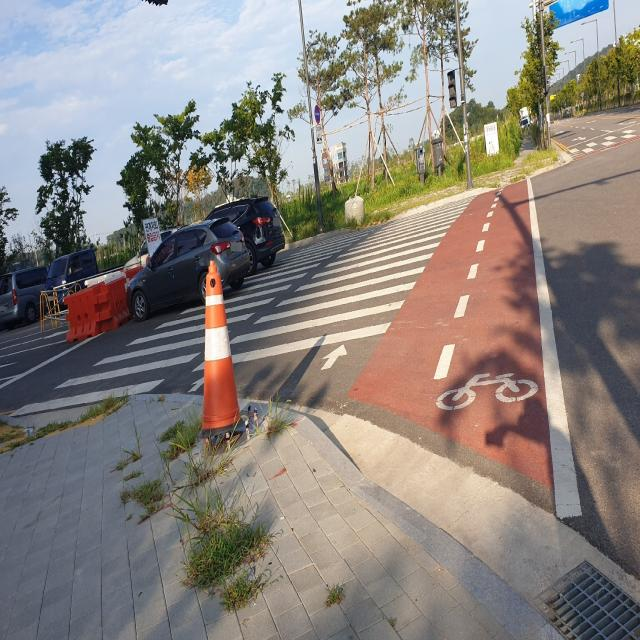횡단보도: (6, 194, 478, 418)
